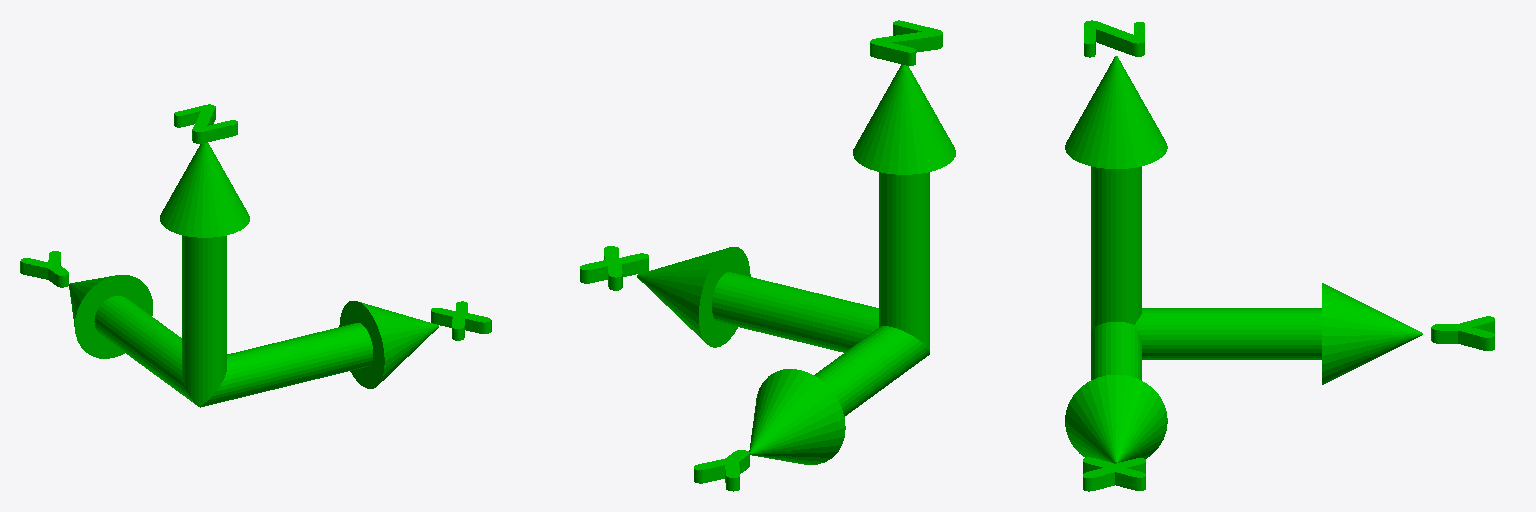
robot.urdf — arrow:
<?xml version="1.0"?>
<robot name="arrow">
  <material name="green">
    <color rgba="0.0 0.8 0.0 1.0"/>
  </material>
  <link name="arrow">
    <visual>
      <origin xyz="0 0 0"/>
      <geometry>
        <!--box size="0.48 0.30 0.15"/-->
        <mesh filename="arrow.dae" scale="0.01 0.01 0.01"/>
      </geometry>
      <material name="green"/>
    </visual>
    <!-- collision>
      <origin xyz="0 0 0"/>
      <geometry>
        <sphere radius="0.2"/>
      </geometry>
    </collision>
    <inertial>
      <mass value="0.5"/>
      <inertia ixx="0.01" ixy="0.0" ixz="0.0" iyy="0.01" iyz="0.0" izz="0.01"/>
    </inertial> -->
  </link>
</robot>

--- What the picture shows (computed from the rendered views, not written in the file) ---
The picture shows the robot from 3 angles, left to right: view 1: azimuth 30°, elevation 25°; view 2: azimuth 150°, elevation 25°; view 3: azimuth 270°, elevation 25°; orthographic projection.
Robot: arrow — 1 links, 0 joints (none); root link arrow; default pose: all joints at 0.
Visible links, largest first — view 1: arrow; view 2: arrow; view 3: arrow.
Link boxes in pixels (x1,y1,x2,y2): arrow: (20,104,491,407); arrow: (580,20,955,491); arrow: (1065,20,1494,491).
Size in the robot's own frame: 0.1593 by 0.1672 by 0.1492 metres.
1 mesh visuals loaded from 1 distinct referenced files (1 Collada DAE).